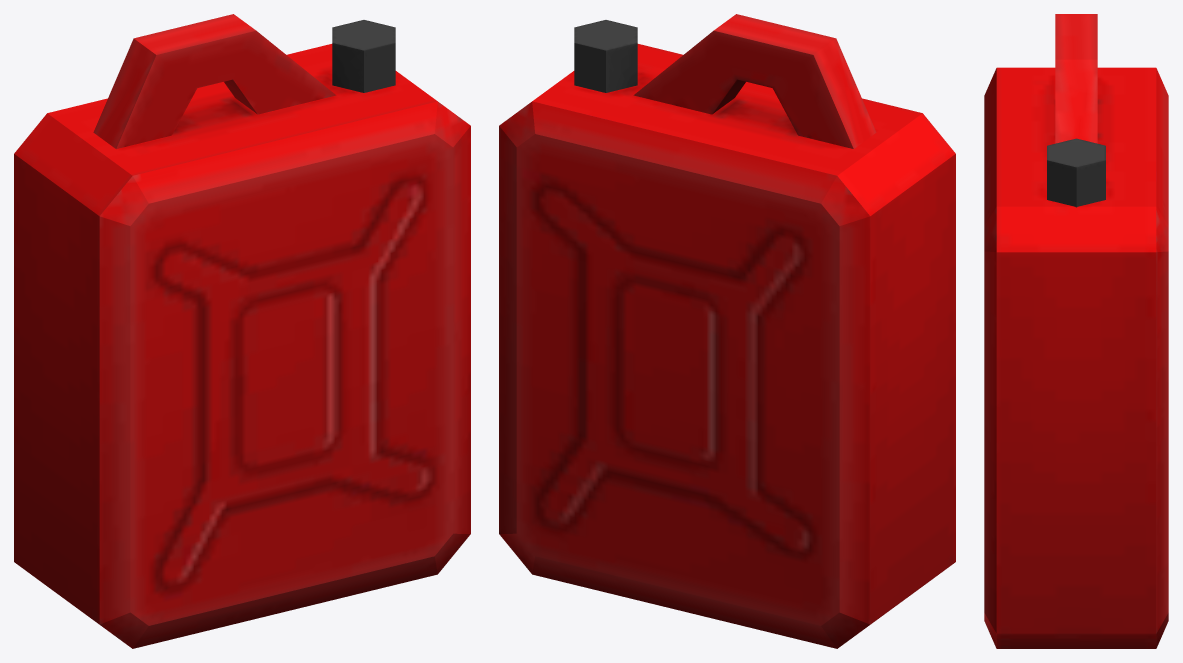
The model's file is item_gas.fbx.
3 views of the same model, side by side, from view 1: azimuth 30°, elevation 25°; view 2: azimuth 150°, elevation 25°; view 3: azimuth 270°, elevation 25° (orthographic). The views are drawn at different scales.
Parts seen in each view (by area): view 1: item_gas; view 2: item_gas; view 3: item_gas.
Boxes of the visible parts, box(x1,y1,x2,y2) form: item_gas: box(14, 14, 470, 648); item_gas: box(499, 14, 955, 648); item_gas: box(984, 14, 1168, 648).
Bounding box in the file's own units: 151 × 216 × 69.43.
